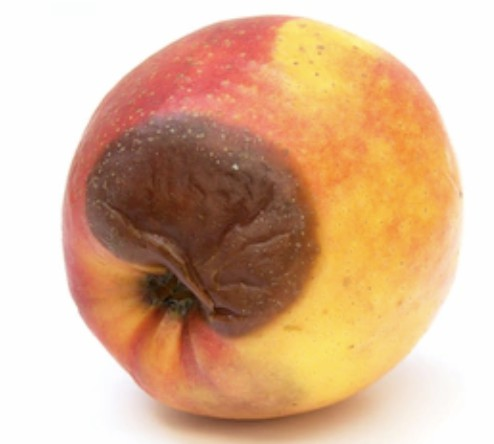rotten_apple: (63, 15, 464, 419)
